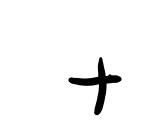plus: (68, 57, 122, 115)
